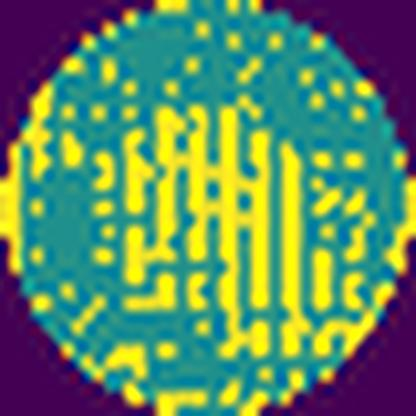Random: (0, 38, 416, 416)
